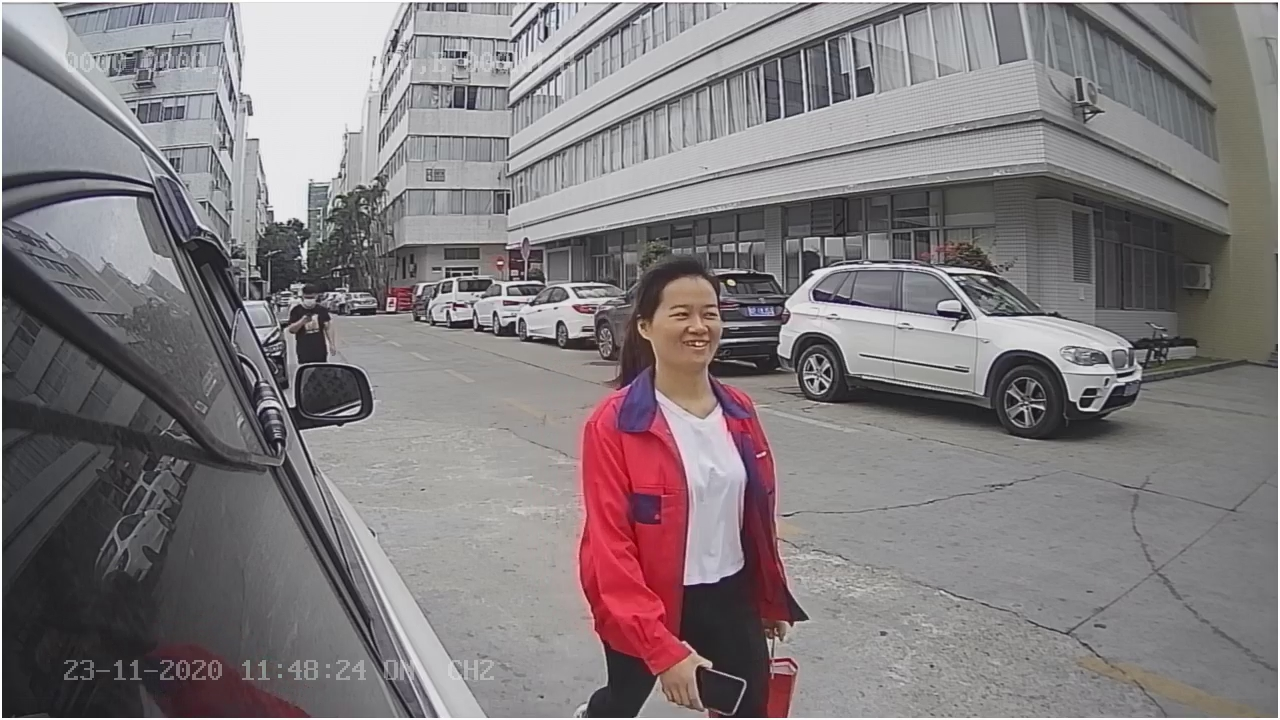person: (559, 246, 822, 705)
